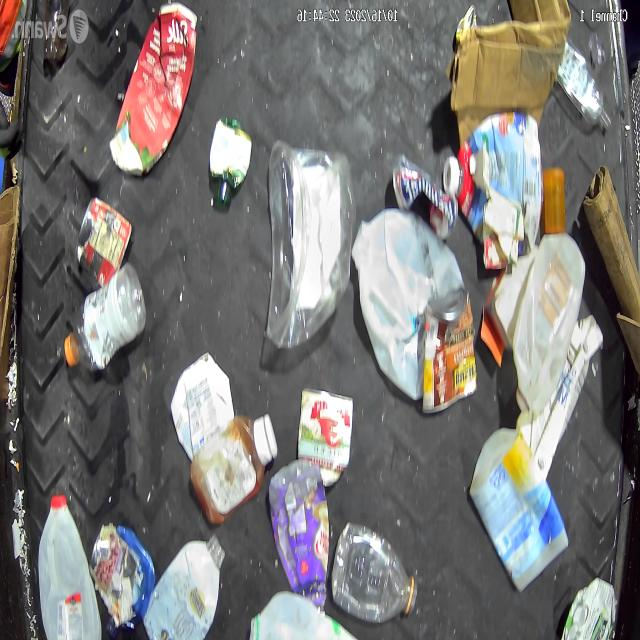can: (424, 293, 478, 410), (76, 194, 134, 289)
milk_jug: (355, 206, 468, 402), (512, 231, 586, 407), (37, 492, 97, 640)
plastic_bottle: (61, 265, 146, 377), (332, 522, 417, 622), (556, 32, 607, 128)
